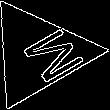M_SW: (1, 20, 77, 86)
